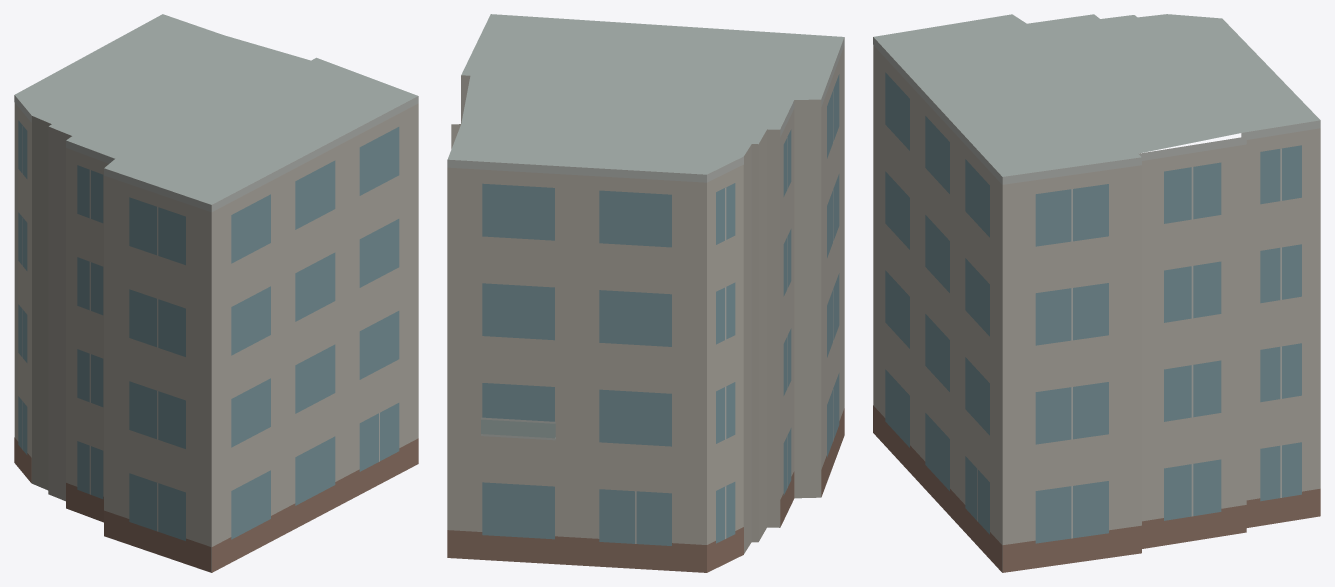
File: survey-upis-32977310.glb
3 renders of one model, left to right at view 1: azimuth 30°, elevation 25°; view 2: azimuth 150°, elevation 25°; view 3: azimuth 270°, elevation 25°, orthographic. The views are drawn at different scales.
Parts seen in each view (by area): view 1: survey-upis-32977310.tmp; view 2: survey-upis-32977310.tmp; view 3: survey-upis-32977310.tmp.
Boxes of the visible parts, bbox=[...] form: survey-upis-32977310.tmp: bbox=[14, 14, 418, 572]; survey-upis-32977310.tmp: bbox=[447, 14, 844, 572]; survey-upis-32977310.tmp: bbox=[873, 14, 1320, 572].
Size of the model in its own units: 10.78 by 12.2 by 12.51.
